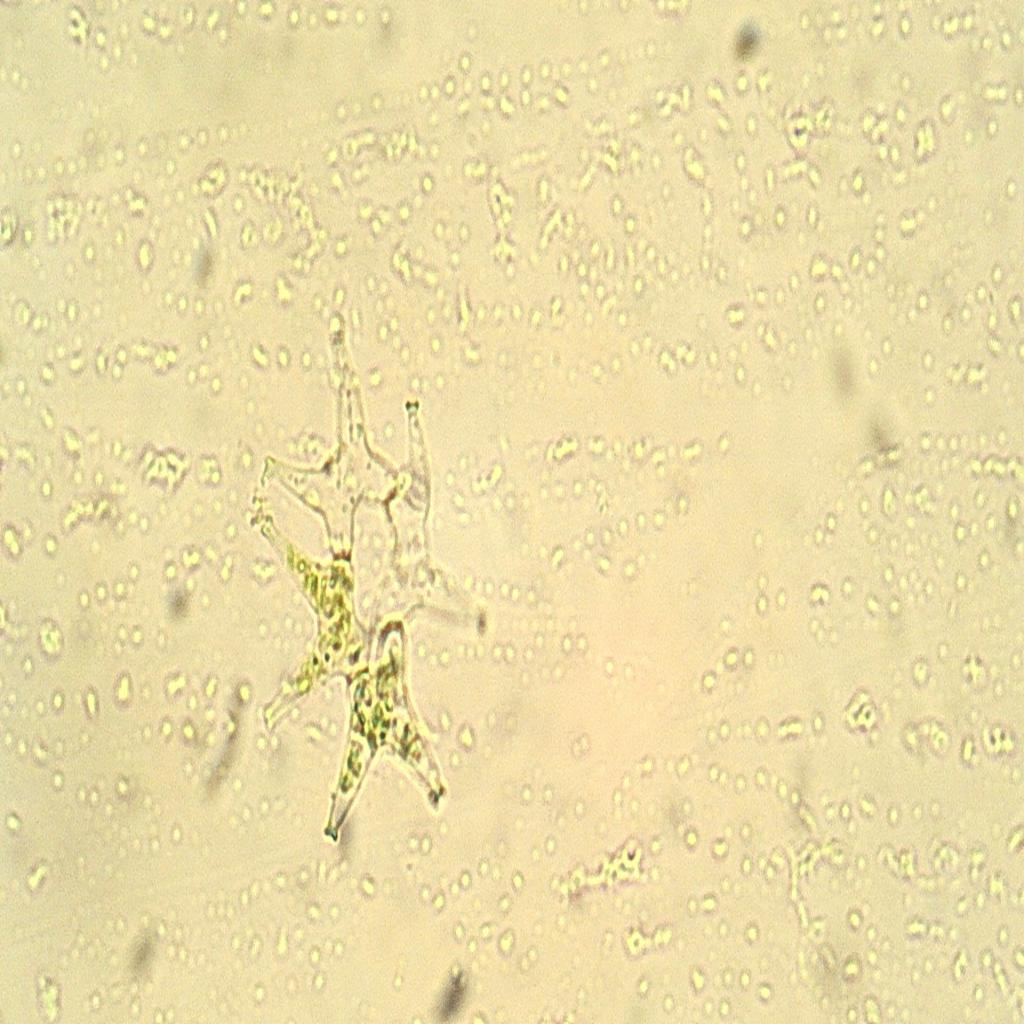Pediastrum_1F0: (226, 314, 506, 866)
